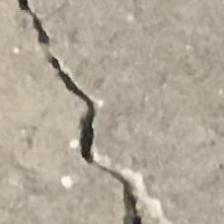Crack: (4, 0, 180, 224)
